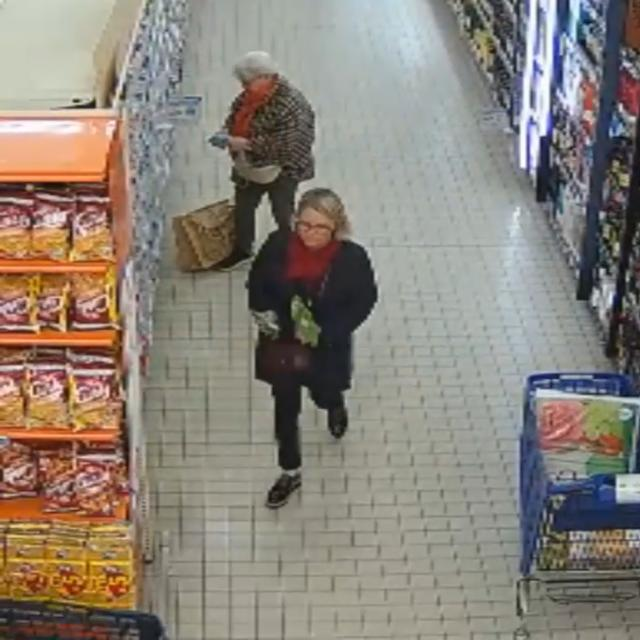article: (297, 308, 321, 345), (253, 310, 280, 338), (291, 294, 307, 322), (208, 134, 230, 149)
bags: (173, 200, 235, 271), (256, 335, 311, 382), (234, 152, 281, 184)
hands: (228, 137, 250, 152), (256, 319, 274, 335)
person: (248, 188, 378, 508), (218, 52, 315, 270)
